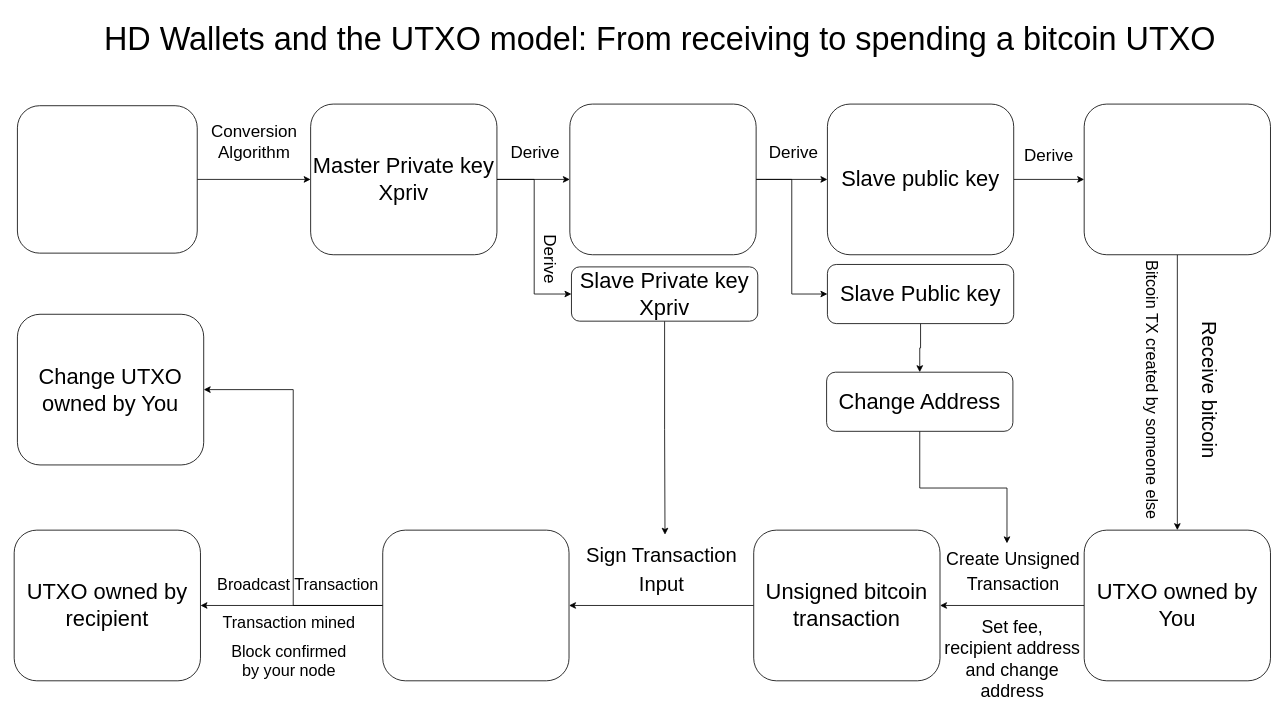
Some shapes in this 1285 by 720 pixel diagram are drawn without their labels. The centre of each missing label's shape, as x and y in pixels:
Bitcoin Transaction created by You: (x=475, y=605)
Master Public key Xpub: (x=662, y=179)
Receive Address: (x=1176, y=179)
Seed phrase: (x=107, y=179)
